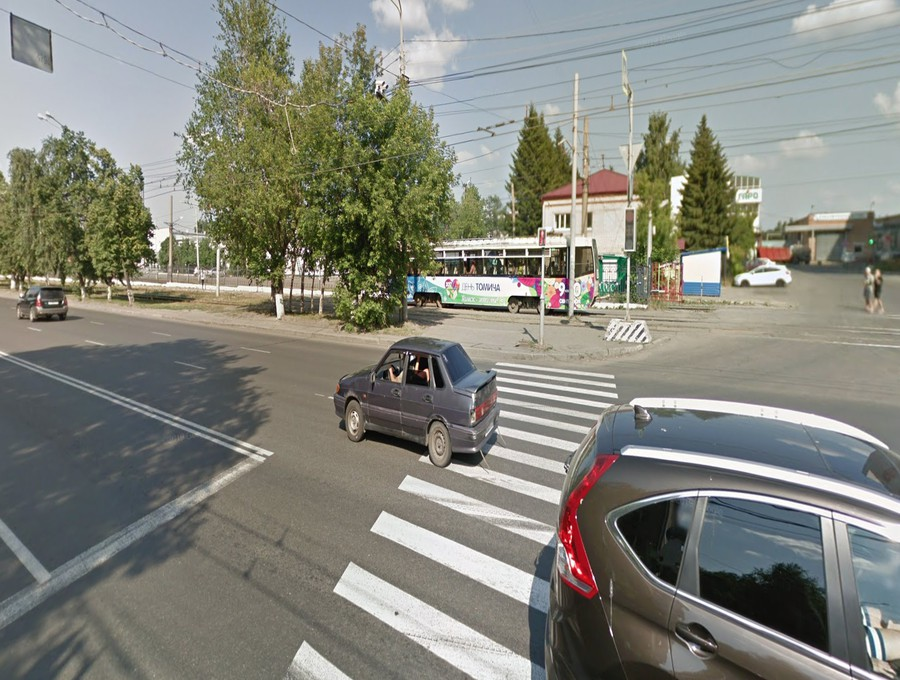Traffic Light-red: (536, 221, 549, 252)
